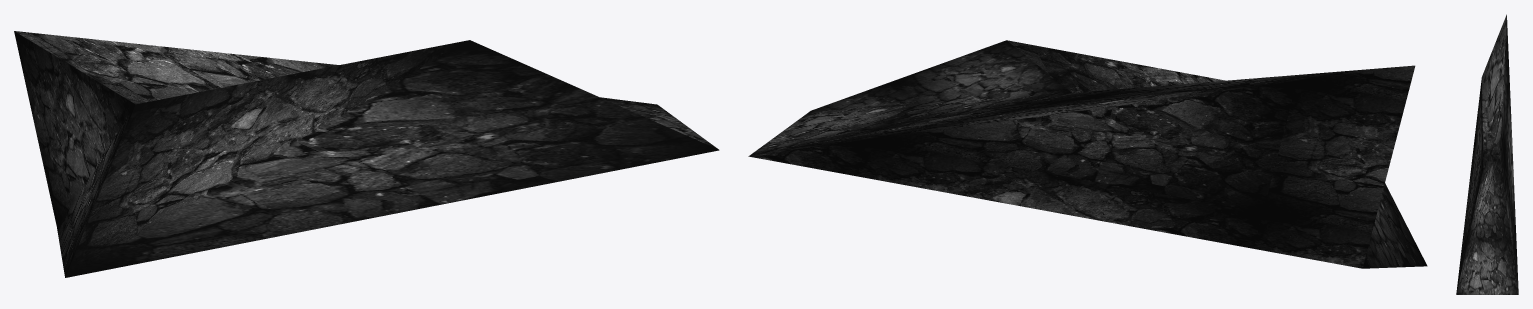
File: RuinH2.FBX
3 views of the same model, side by side, from view 1: azimuth 30°, elevation 25°; view 2: azimuth 150°, elevation 25°; view 3: azimuth 270°, elevation 25° (orthographic). The views are drawn at different scales.
Parts seen in each view (by area): view 1: Box001; view 2: Box001; view 3: Box001.
Boxes of the visible parts, box(x1,y1,x2,y2) form: Box001: box(14, 31, 719, 277); Box001: box(748, 40, 1427, 268); Box001: box(1456, 14, 1518, 294).
Size of the model in its own units: 96.76 by 34.17 by 15.99.
Materials: 1 (1 with a texture image).
